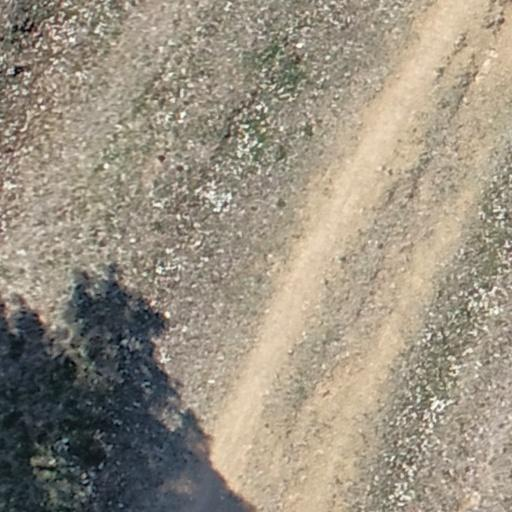stone: (5, 64, 19, 76)
